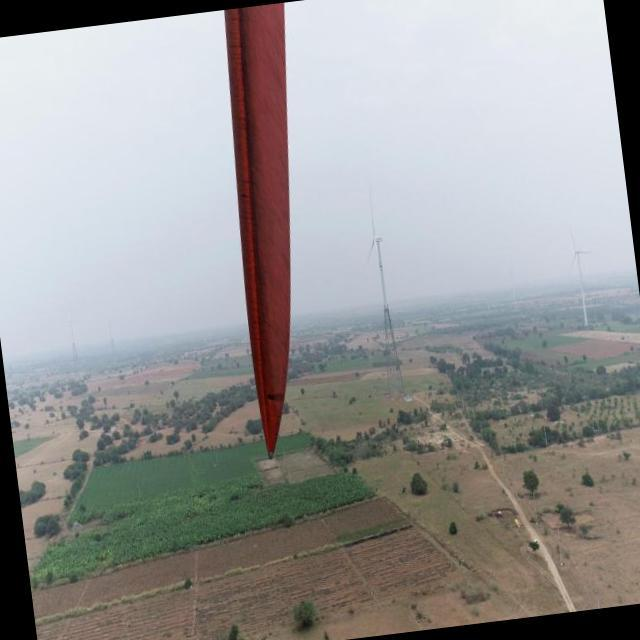Dirt: (223, 8, 293, 448)
Pin Hole: (267, 391, 280, 403)
